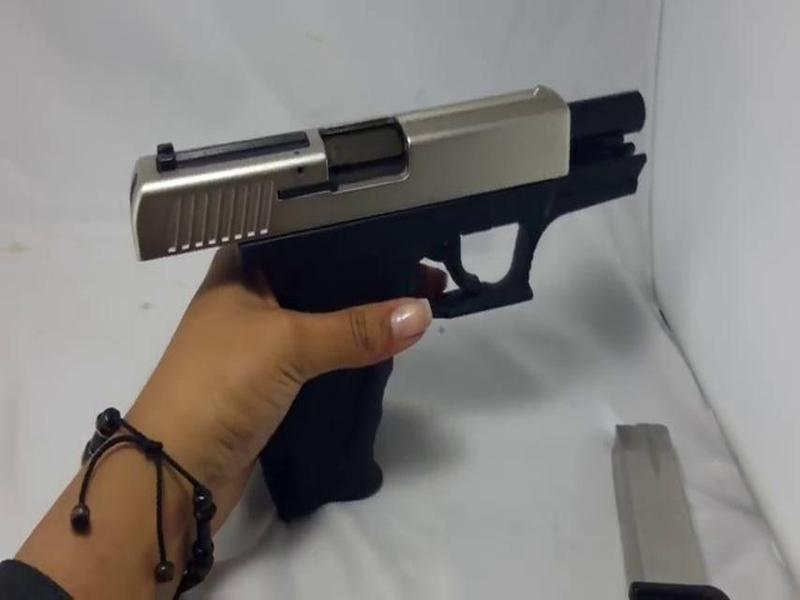Pistola: (119, 64, 635, 513)
